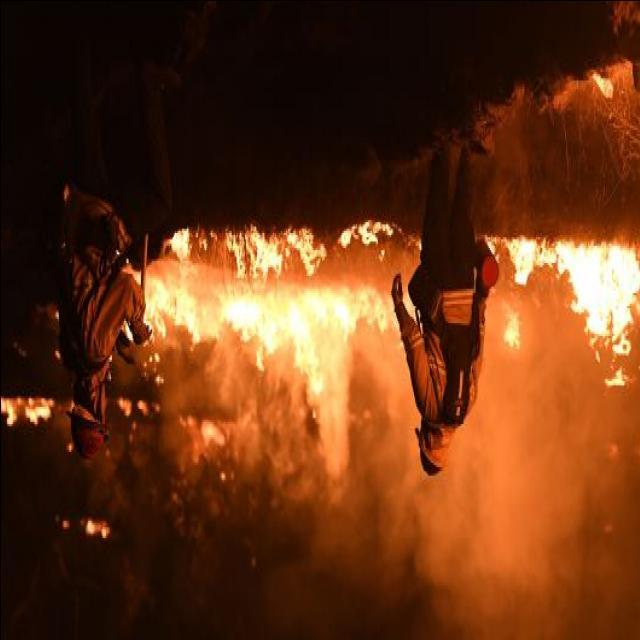Fire: (114, 217, 420, 496), (482, 230, 638, 374)
